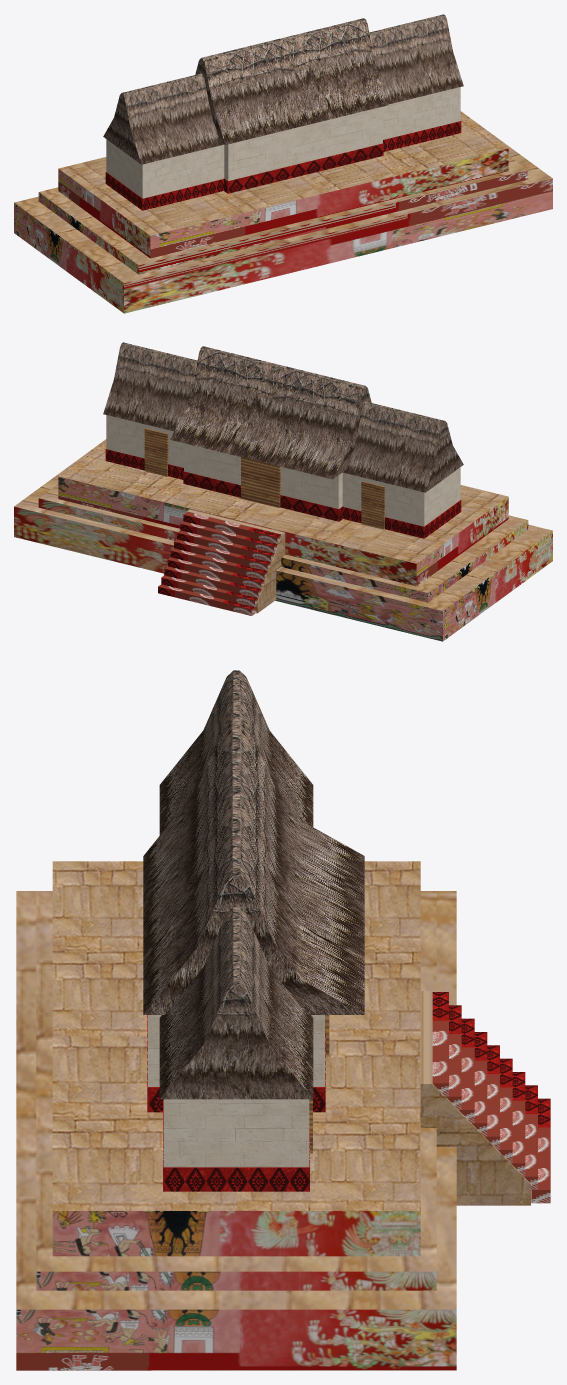
The model's file is palace.dae.
The picture shows the model from 3 angles, top to bottom: view 1: azimuth 30°, elevation 25°; view 2: azimuth 150°, elevation 25°; view 3: azimuth 270°, elevation 25°; orthographic projection. The views are drawn at different scales.
Visible parts, largest first — view 1: palace; view 2: palace; view 3: palace.
Boxes of the visible parts, x1,y1,x2,y2 form: palace: [14, 14, 552, 313]; palace: [14, 342, 552, 641]; palace: [16, 670, 550, 1370].
Bounding box in the file's own units: 51.78 × 27.95 × 21.04.
